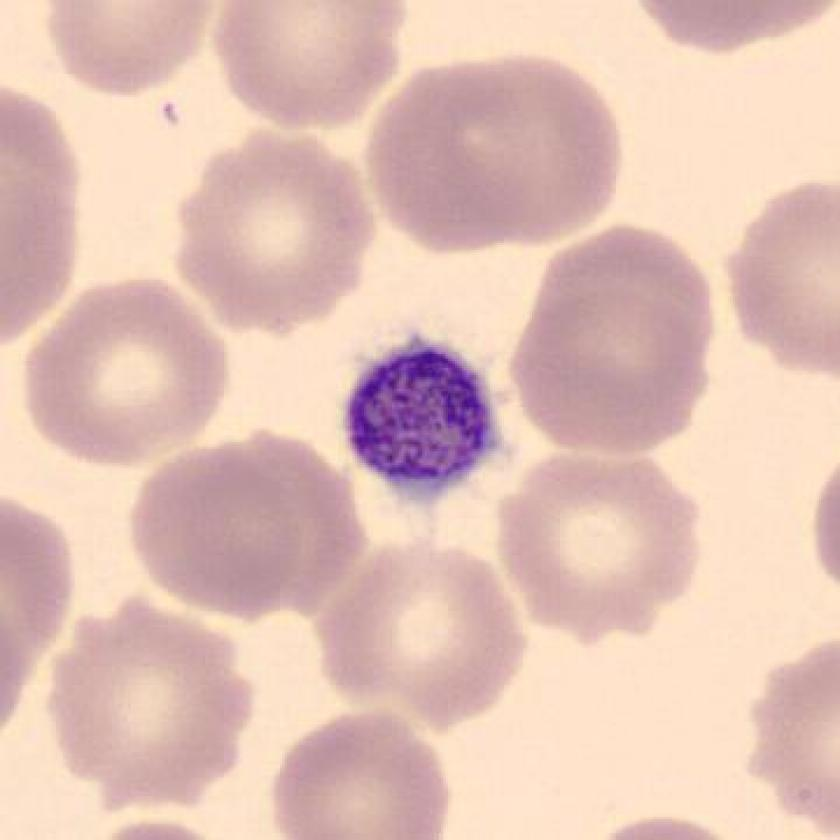platelets: (332, 325, 512, 515)
